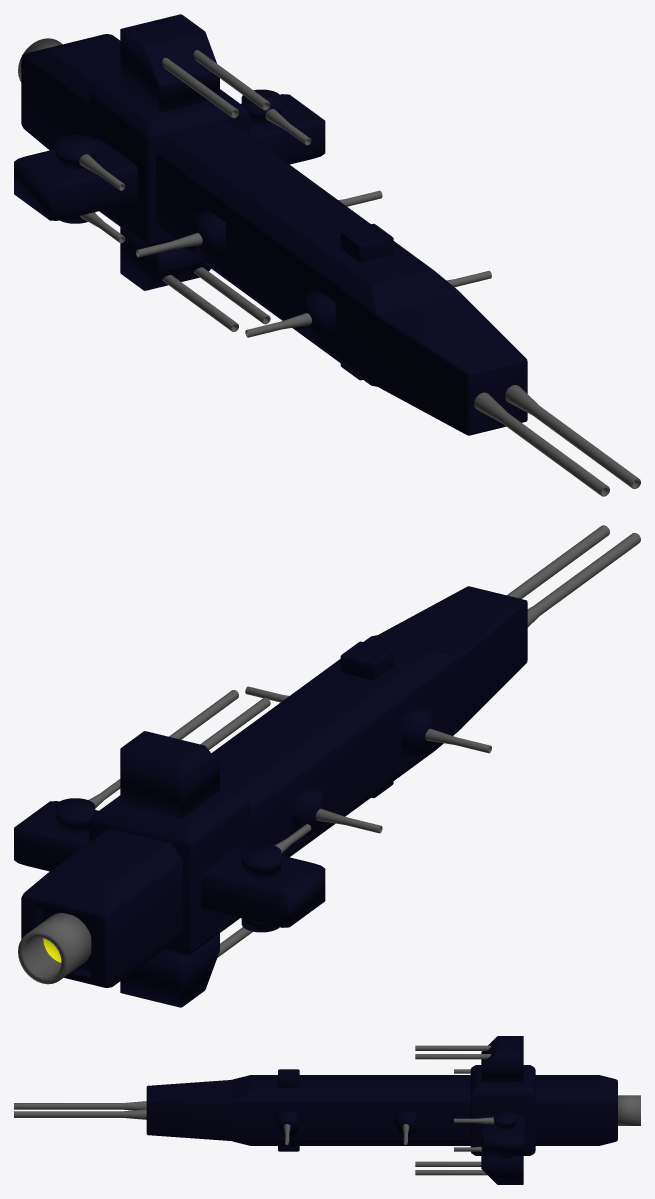
The model's file is frigate.fbx.
The picture shows the model from 3 angles, top to bottom: view 1: azimuth 30°, elevation 25°; view 2: azimuth 150°, elevation 25°; view 3: azimuth 270°, elevation 25°; orthographic projection. The views are drawn at different scales.
Visible parts, largest first — view 1: HULL, Cube, TURRETHULL, TURRET, Cylinder, TURRET.001, Cylinder.013, Cylinder.002, Cube.001, Cylinder.008, Cylinder.004, Cylinder.015 (+1 smaller); view 2: HULL, Cube, TURRETHULL, TURRET, TURRET.001, ENGINE, Cylinder, Cube.001, Cylinder.013, Cylinder.008, Cylinder.015, Cylinder.004 (+1 smaller); view 3: HULL, TURRETHULL, Cylinder, TURRET, Cube, TURRET.001, Cylinder.013, Cylinder.002, ENGINE, Cube.001, Cylinder.009, Cylinder.012 (+1 smaller).
Part boxes in pixels (x1,y1,x2,y2): HULL: [21, 34, 527, 435]; Cube: [14, 94, 325, 220]; TURRETHULL: [89, 82, 250, 246]; TURRET: [120, 14, 219, 112]; Cylinder: [474, 385, 640, 496]; TURRET.001: [120, 227, 210, 290]; Cylinder.013: [162, 50, 270, 118]; Cylinder.002: [162, 267, 270, 331]; Cube.001: [340, 223, 393, 380]; Cylinder.008: [305, 288, 335, 339]; Cylinder.004: [196, 208, 225, 259]; Cylinder.015: [55, 135, 95, 169]; HULL: [21, 586, 527, 987]; Cube: [14, 801, 325, 927]; TURRETHULL: [89, 789, 250, 955]; TURRET: [120, 731, 219, 818]; TURRET.001: [120, 933, 219, 1007]; ENGINE: [18, 913, 91, 984]; Cylinder: [507, 525, 640, 627]; Cube.001: [340, 641, 393, 798]; Cylinder.013: [169, 690, 270, 749]; Cylinder.008: [401, 704, 431, 755]; Cylinder.015: [241, 843, 281, 878]; Cylinder.004: [292, 784, 322, 835]; HULL: [146, 1075, 617, 1145]; TURRETHULL: [470, 1065, 535, 1155]; Cylinder: [14, 1101, 146, 1119]; TURRET: [481, 1036, 523, 1082]; Cube: [481, 1114, 524, 1155]; TURRET.001: [481, 1156, 523, 1184]; Cylinder.013: [415, 1045, 491, 1059]; Cylinder.002: [415, 1161, 487, 1175]; ENGINE: [618, 1095, 640, 1125]; Cube.001: [278, 1069, 299, 1151]; Cylinder.009: [276, 1112, 297, 1136]; Cylinder.012: [395, 1112, 416, 1136].
Size of the model in its own units: 16 by 13.55 by 58.07.
